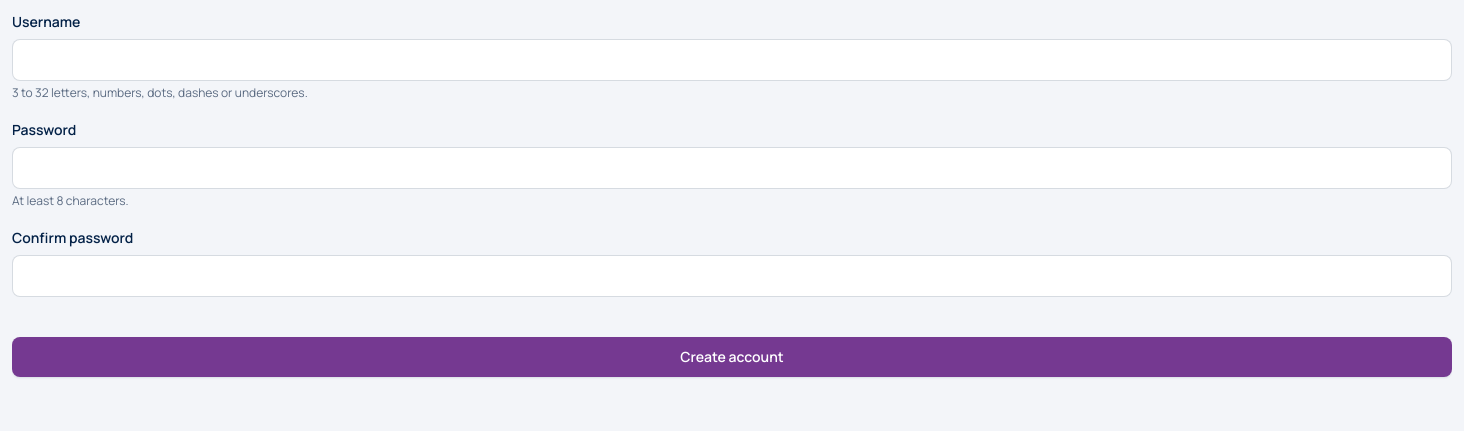
Test: RegisterForm › reports other failures generically
Type "new.user" into the field labelled "Username" at (732, 60), box [12,39,1452,81]
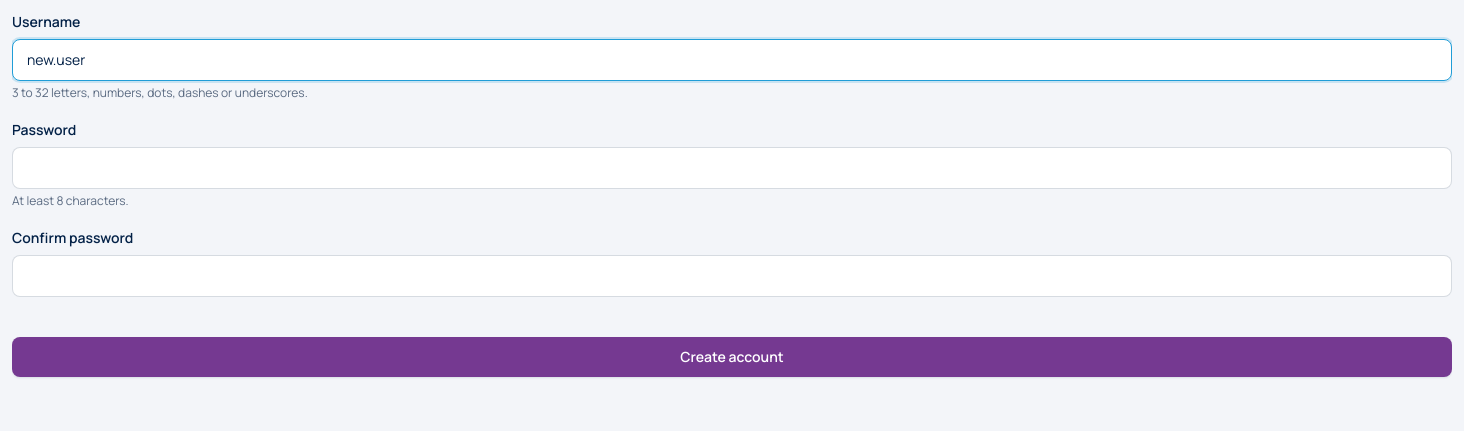
Type "long-password" into the password field labelled "Password" at (732, 168), box [12,147,1452,189]
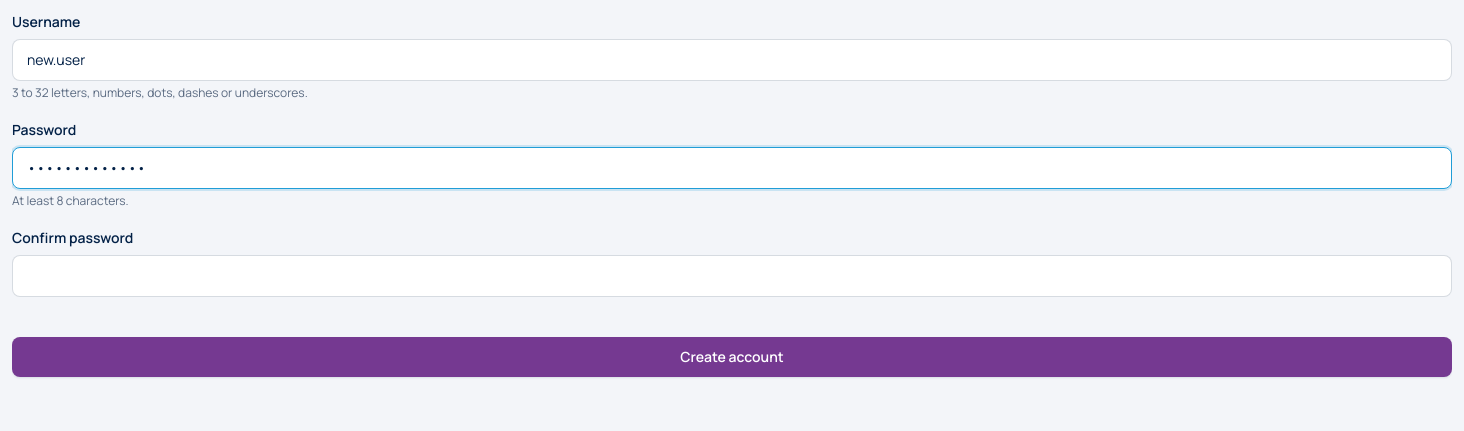
Type "long-password" into the password field labelled "Confirm password" at (732, 276), box [12,255,1452,297]
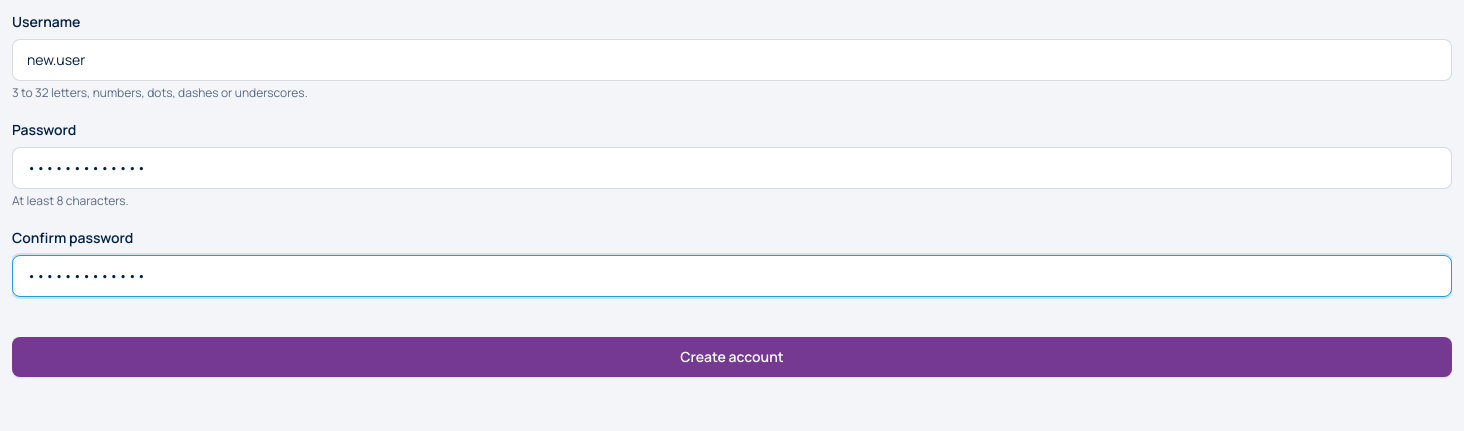
Click the button "Create account" at (732, 357), box [12,337,1452,377]
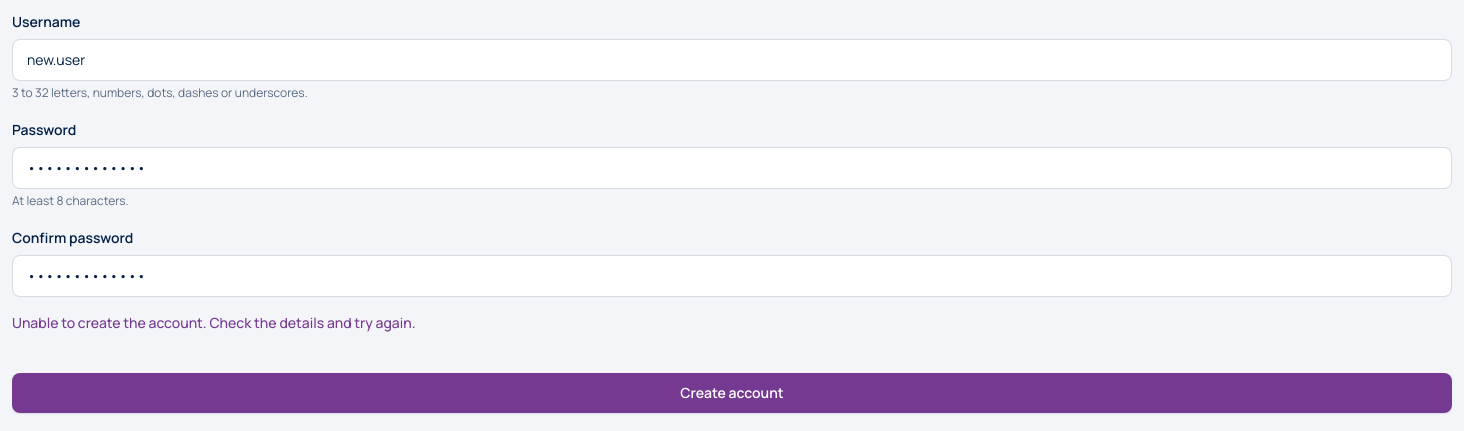
Check: the message shows "Unable to create the account", box [12,313,415,332]
